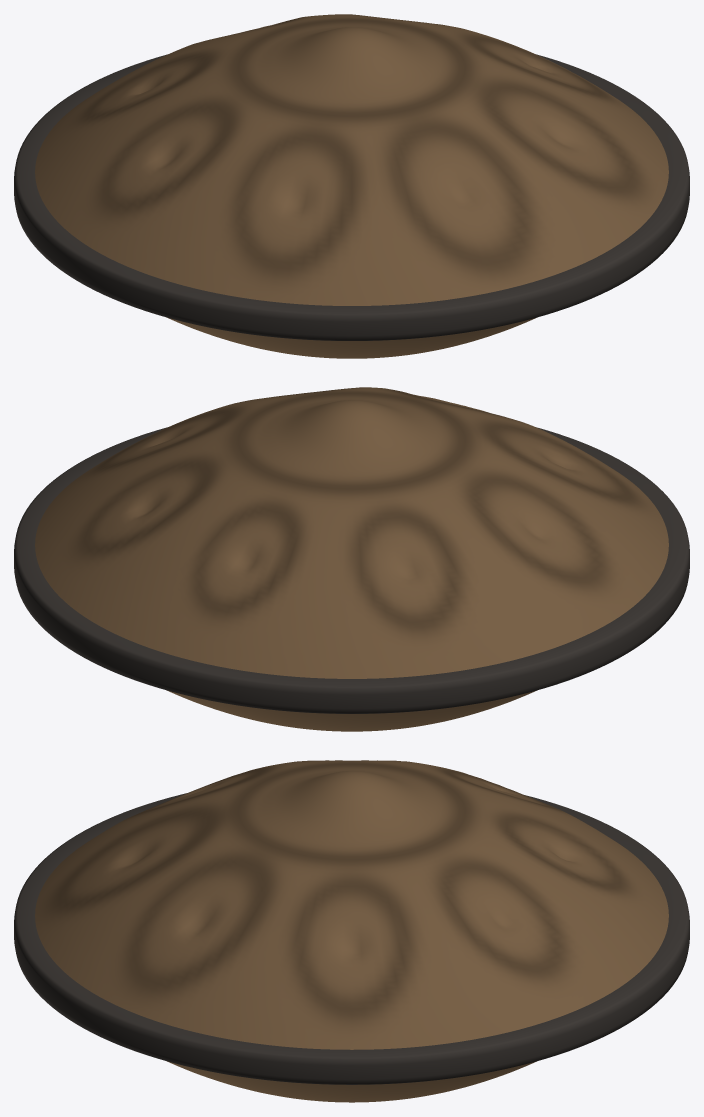
The model's file is handpan.glb.
3 renders of one model, top to bottom at view 1: azimuth 30°, elevation 25°; view 2: azimuth 150°, elevation 25°; view 3: azimuth 270°, elevation 25°, orthographic.
Parts seen in each view (by area): view 1: Handpan_Body, Handpan_RimBand; view 2: Handpan_Body, Handpan_RimBand; view 3: Handpan_Body, Handpan_RimBand.
Boxes of the visible parts, left/top/right/bottom form: Handpan_Body: left=35, top=14, right=668, bottom=358; Handpan_RimBand: left=14, top=54, right=689, bottom=340; Handpan_Body: left=35, top=387, right=668, bottom=731; Handpan_RimBand: left=14, top=427, right=689, bottom=713; Handpan_Body: left=35, top=760, right=668, bottom=1102; Handpan_RimBand: left=14, top=793, right=689, bottom=1084.
Bounding box in the file's own units: 0.53 × 0.2398 × 0.53.
